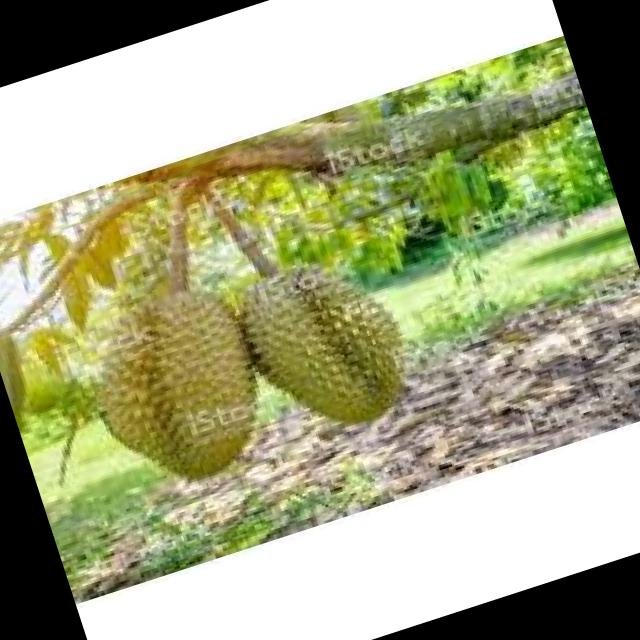fruit: (17, 236, 302, 532), (212, 225, 440, 462)
